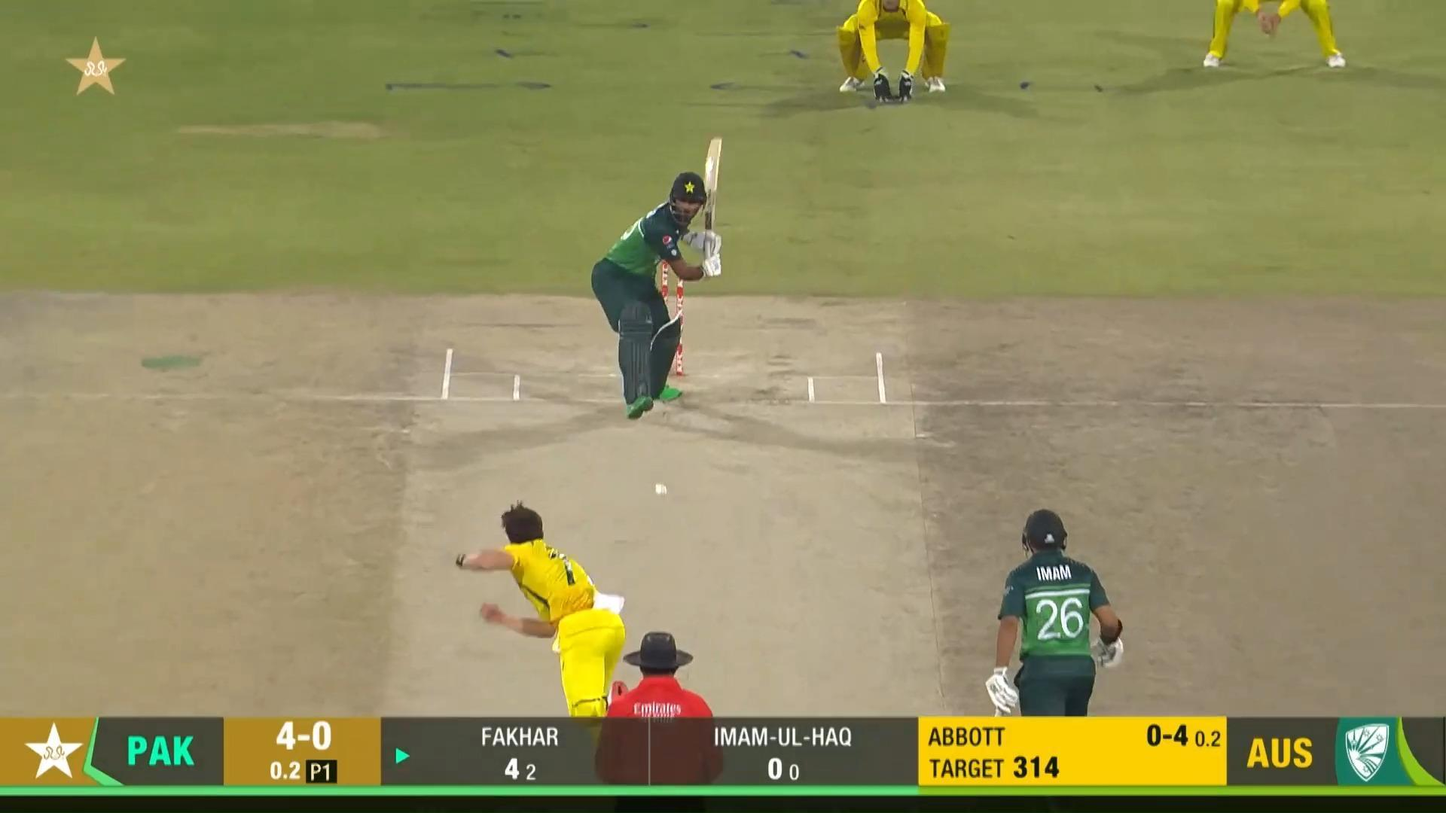BM 1: (591, 135, 723, 420)
BO: (456, 498, 625, 716)
